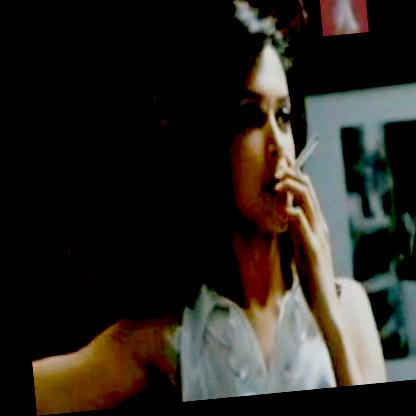smoke: (317, 0, 368, 43)
